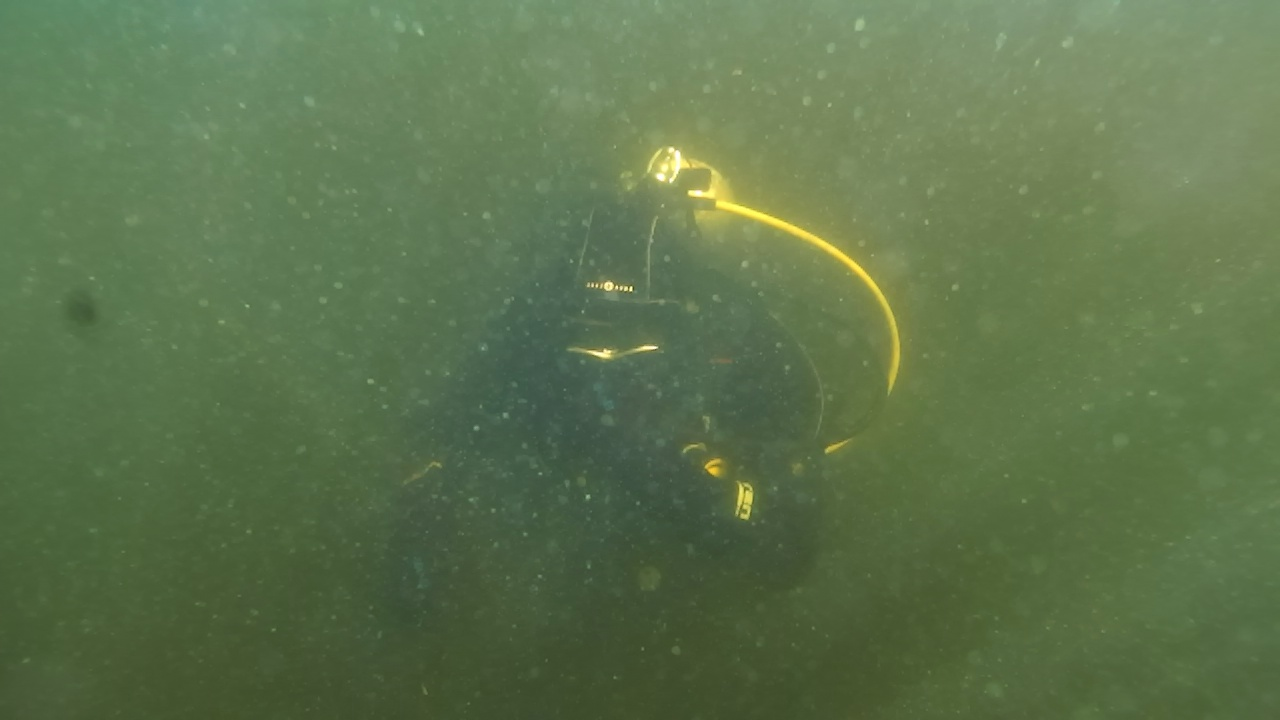Diver: (342, 122, 836, 612)
